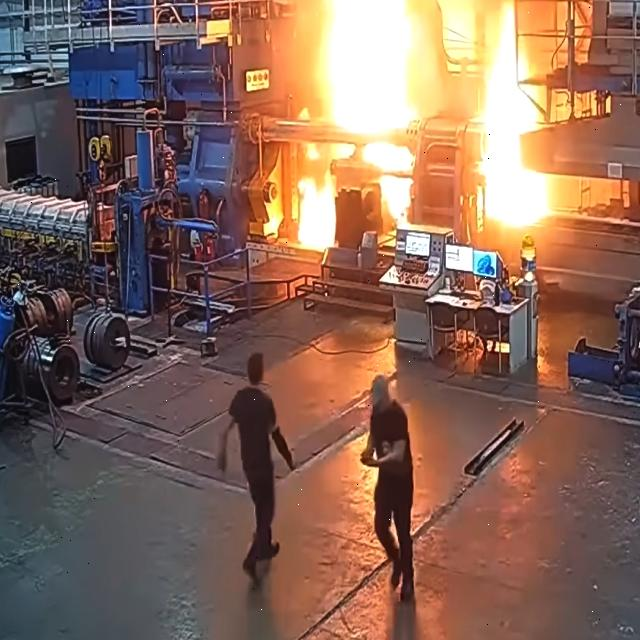standing: (218, 353, 294, 581), (360, 375, 414, 600)
